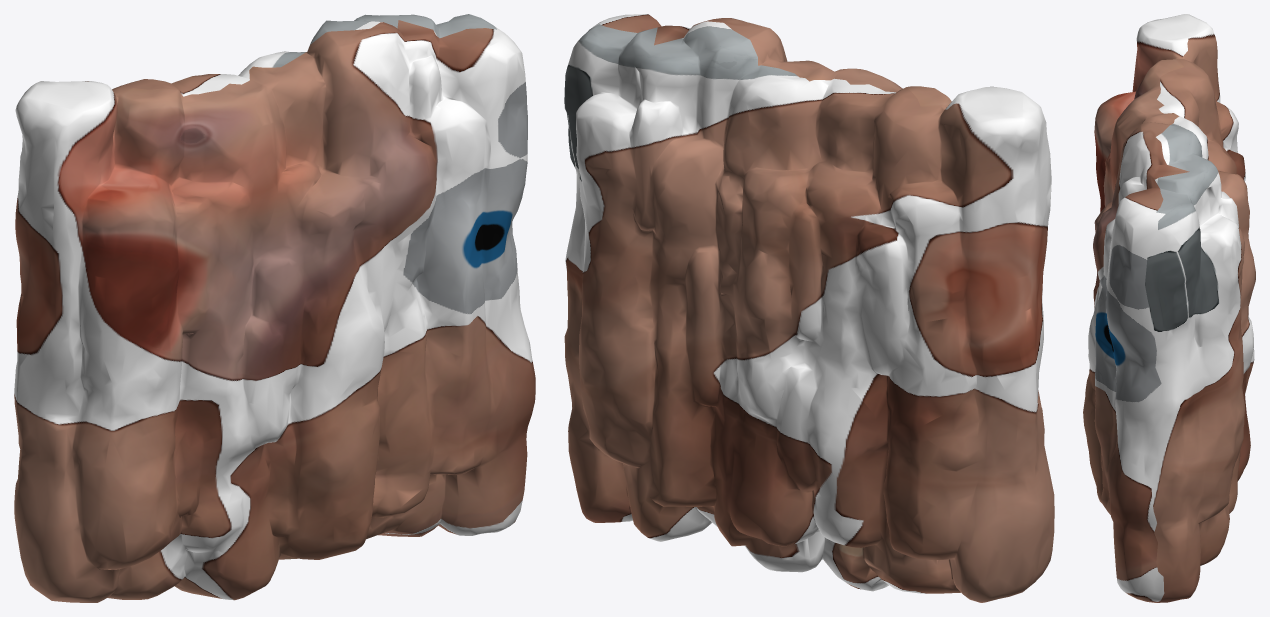
File: caveWall1_LOD.fbx
3 views of the same model, side by side, from view 1: azimuth 30°, elevation 25°; view 2: azimuth 150°, elevation 25°; view 3: azimuth 270°, elevation 25° (orthographic). The views are drawn at different scales.
Parts seen in each view (by area): view 1: wallMesh1_LOD0; view 2: wallMesh1_LOD0; view 3: wallMesh1_LOD0.
Boxes of the visible parts, bbox=[...] form: wallMesh1_LOD0: bbox=[14, 14, 535, 602]; wallMesh1_LOD0: bbox=[564, 14, 1054, 602]; wallMesh1_LOD0: bbox=[1083, 14, 1255, 602].
Size of what is drawn, in the model's own units: 2172 by 2223 by 830.
